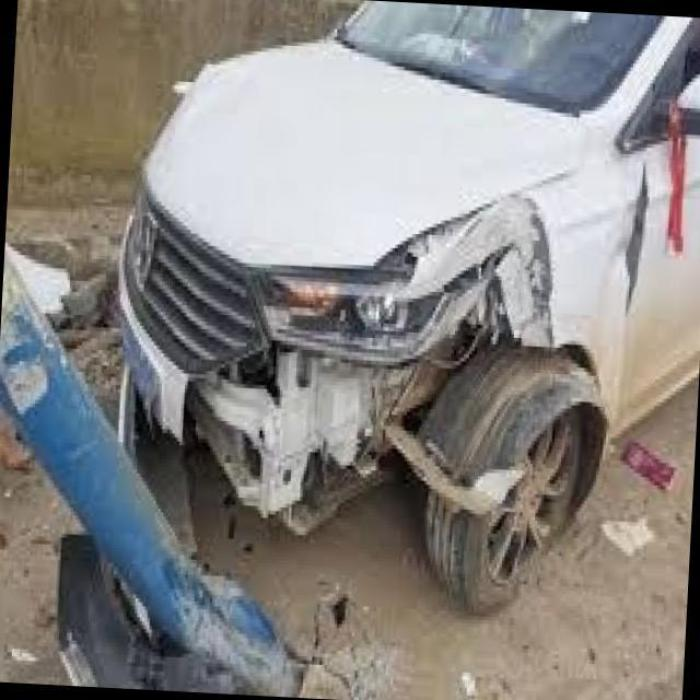Accident: (0, 7, 593, 700)
